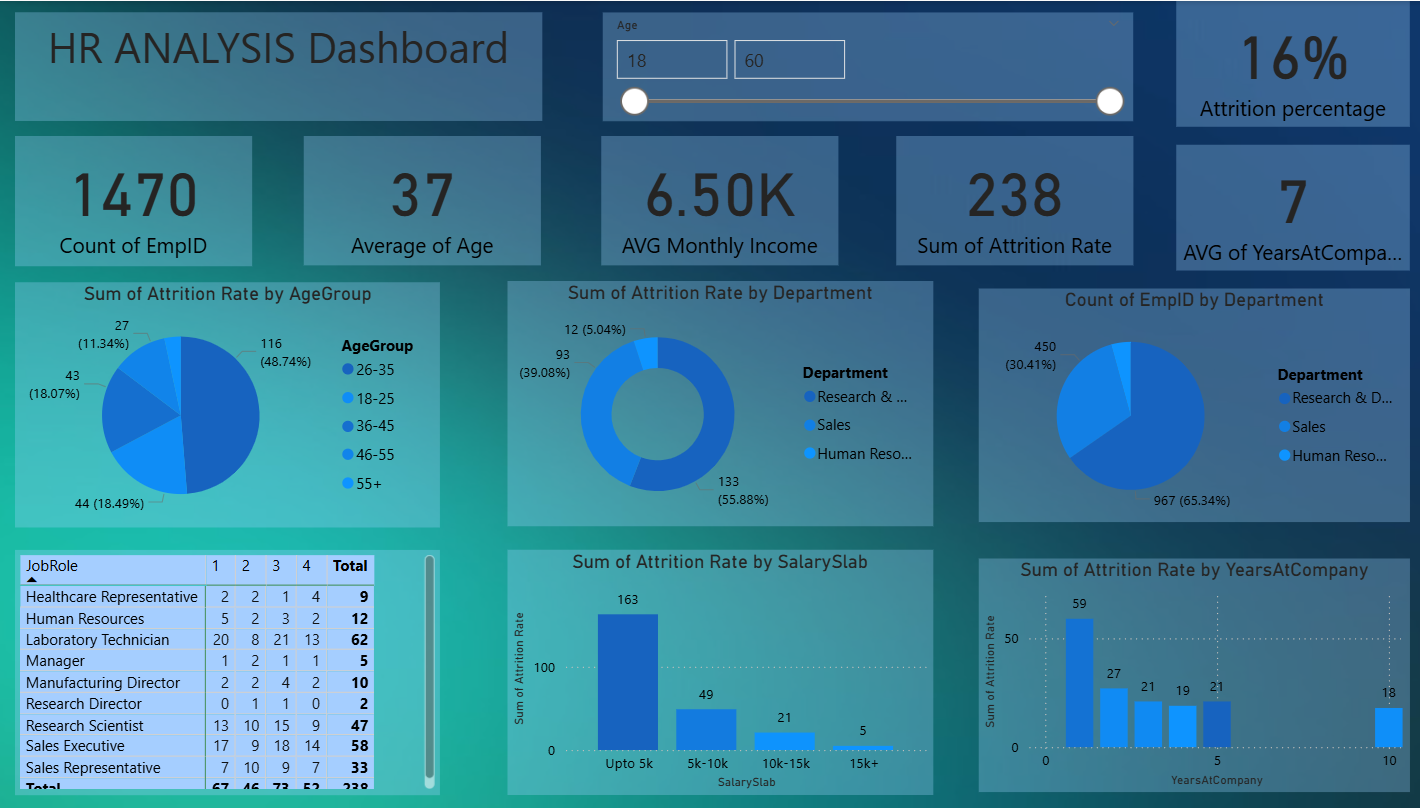

This screenshot's page, from the dashboard's own definition file:
{"tool":"powerbi","page":{"name":"Page 1","canvas":[1280,720],"ordinal":0},"visuals":[{"type":"card","fields":{"Values":["Count(HR_Analytics (2).EmpID)"]},"box":[21.7,120.6,211.1,115.8],"z":1000},{"type":"card","fields":{"Values":["Avg(HR_Analytics (2).Age)"]},"box":[279.9,120.8,211.3,115.3],"z":2000},{"type":"slicer","fields":{"Values":["HR_Analytics (2).Age"]},"box":[545.3,9.7,472.9,96.5],"z":3000},{"type":"card","fields":{"Values":["Avg(HR_Analytics (2).MonthlyIncome)"]},"box":[544.8,120.8,211.3,115.3],"z":4000},{"type":"textbox","box":[21.7,9.7,469.3,96.5],"z":5000},{"type":"card","fields":{"Values":["Sum(HR_Analytics (2).Attrition Rate)"]},"box":[806.9,120.8,211.3,115.3],"z":6000},{"type":"card","fields":{"Values":["Avg(HR_Analytics (2).YearsAtCompany)"]},"box":[1056,128,208,112],"z":7000},{"type":"pieChart","fields":{"Category":["HR_Analytics (2).AgeGroup"],"Y":["Sum(HR_Analytics (2).Attrition Rate)"]},"box":[22,250.9,378.7,218.2],"z":8000},{"type":"donutChart","fields":{"Y":["Sum(HR_Analytics (2).Attrition Rate)"],"Category":["HR_Analytics (2).Department"]},"box":[460.9,249.7,378.8,218.4],"z":9000},{"type":"pieChart","fields":{"Category":["HR_Analytics (2).Department"],"Y":["CountNonNull(HR_Analytics (2).EmpID)"]},"box":[880,256,384,208],"z":10000},{"type":"pivotTable","fields":{"Rows":["HR_Analytics (2).JobRole"],"Columns":["HR_Analytics (2).JobSatisfaction"],"Values":["Sum(HR_Analytics (2).Attrition Rate)"]},"box":[22,488.5,378.7,218.2],"z":11000},{"type":"clusteredColumnChart","fields":{"Category":["HR_Analytics (2).SalarySlab"],"Y":["Sum(HR_Analytics (2).Attrition Rate)"]},"box":[460.9,488.6,378.8,218.4],"z":12000},{"type":"clusteredColumnChart","fields":{"Category":["HR_Analytics (2).YearsAtCompany"],"Y":["Sum(HR_Analytics (2).Attrition Rate)"]},"box":[880,496,384,208],"z":13000},{"type":"card","fields":{"Values":["HR_Analytics (2).Attrition percentage"]},"box":[1056,0,208,112],"z":14000}]}

Visuals, with their boxes in screenshot pixels (x1, y1, x2, y2), scaled from the page's 1280x720 canvas onto the 1420x808 screenshot:
card - Count(HR_Analytics (2).EmpID): [x1=24, y1=135, x2=258, y2=265]
card - Avg(HR_Analytics (2).Age): [x1=311, y1=136, x2=545, y2=265]
slicer - HR_Analytics (2).Age: [x1=605, y1=11, x2=1130, y2=119]
card - Avg(HR_Analytics (2).MonthlyIncome): [x1=604, y1=136, x2=839, y2=265]
textbox: [x1=24, y1=11, x2=545, y2=119]
card - Sum(HR_Analytics (2).Attrition Rate): [x1=895, y1=136, x2=1130, y2=265]
card - Avg(HR_Analytics (2).YearsAtCompany): [x1=1172, y1=144, x2=1402, y2=269]
pieChart - HR_Analytics (2).AgeGroup x Sum(HR_Analytics (2).Attrition Rate): [x1=24, y1=282, x2=445, y2=526]
donutChart - Sum(HR_Analytics (2).Attrition Rate) x HR_Analytics (2).Department: [x1=511, y1=280, x2=932, y2=525]
pieChart - HR_Analytics (2).Department x CountNonNull(HR_Analytics (2).EmpID): [x1=976, y1=287, x2=1402, y2=521]
pivotTable - HR_Analytics (2).JobRole x HR_Analytics (2).JobSatisfaction: [x1=24, y1=548, x2=445, y2=793]
clusteredColumnChart - HR_Analytics (2).SalarySlab x Sum(HR_Analytics (2).Attrition Rate): [x1=511, y1=548, x2=932, y2=793]
clusteredColumnChart - HR_Analytics (2).YearsAtCompany x Sum(HR_Analytics (2).Attrition Rate): [x1=976, y1=557, x2=1402, y2=790]
card - HR_Analytics (2).Attrition percentage: [x1=1172, y1=0, x2=1402, y2=126]
